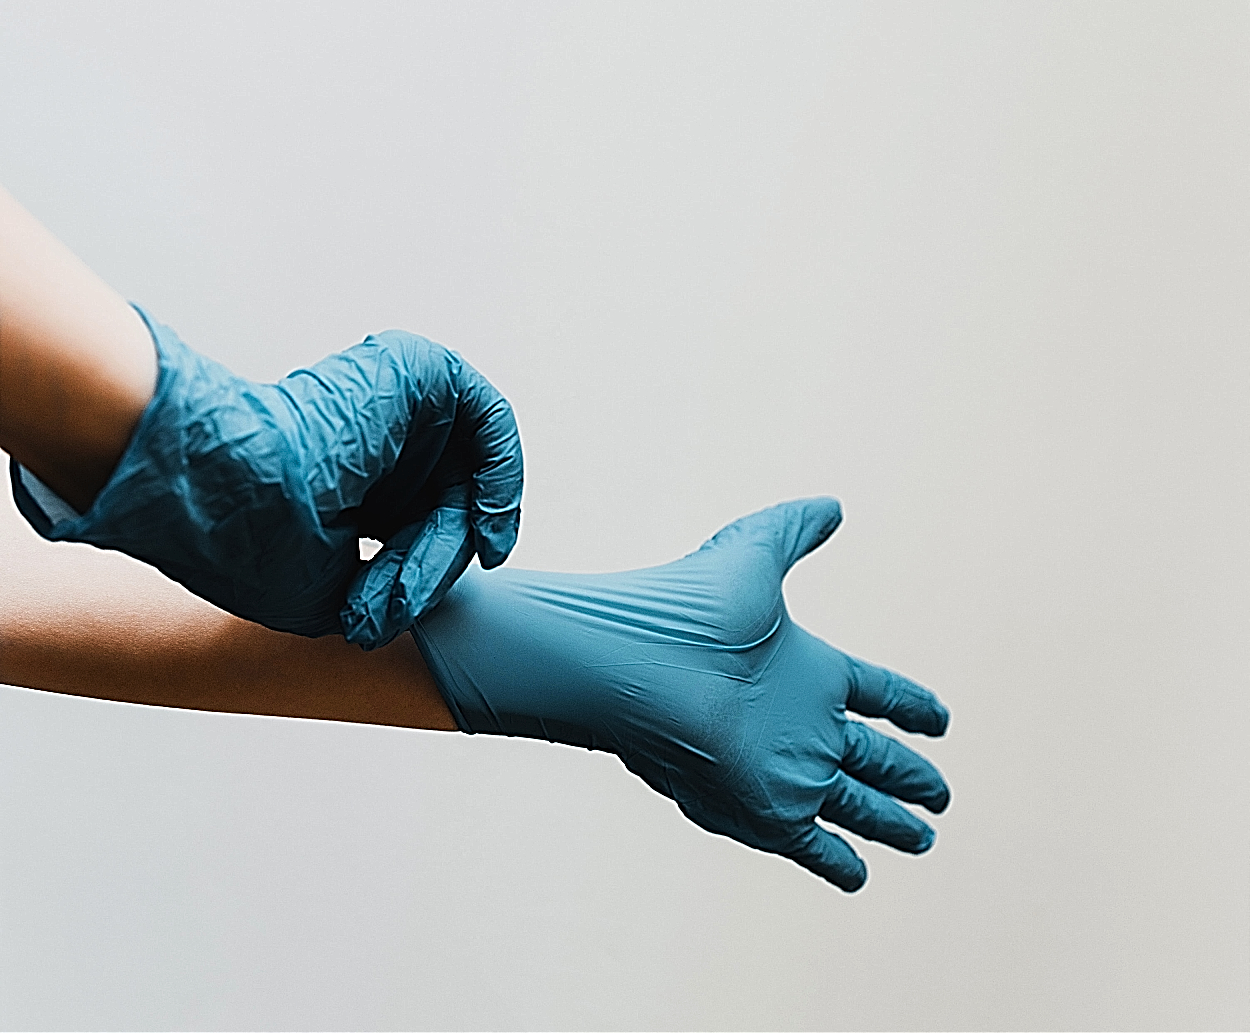gloves: (397, 484, 955, 898), (13, 323, 530, 652)
